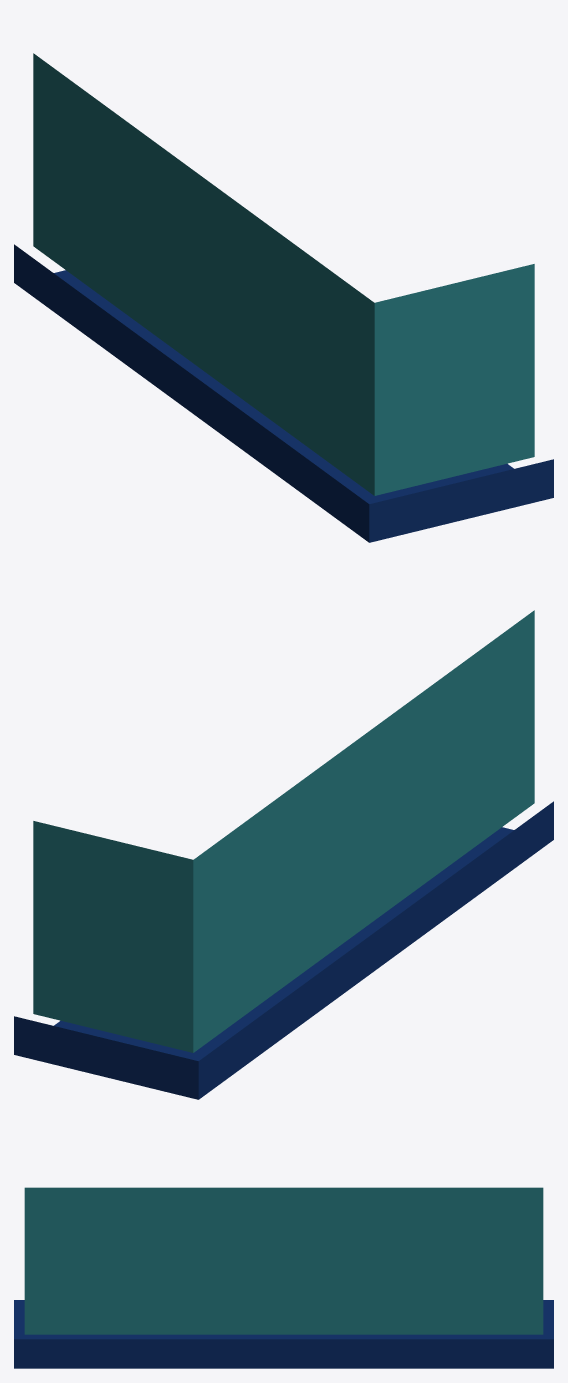
Rendered from accord_outpost.glb.
3 renders of one model, top to bottom at view 1: azimuth 30°, elevation 25°; view 2: azimuth 150°, elevation 25°; view 3: azimuth 270°, elevation 25°, orthographic. The views are drawn at different scales.
Parts seen in each view (by area): view 1: accord_outpost; view 2: accord_outpost; view 3: accord_outpost.
Part boxes in pixels (bbox=[...]): accord_outpost: bbox=[14, 53, 553, 542]; accord_outpost: bbox=[14, 610, 553, 1099]; accord_outpost: bbox=[14, 1187, 553, 1368].
Size of the model in its own units: 300 by 360 by 1000.
Materials: 1 (1 with a texture image).
